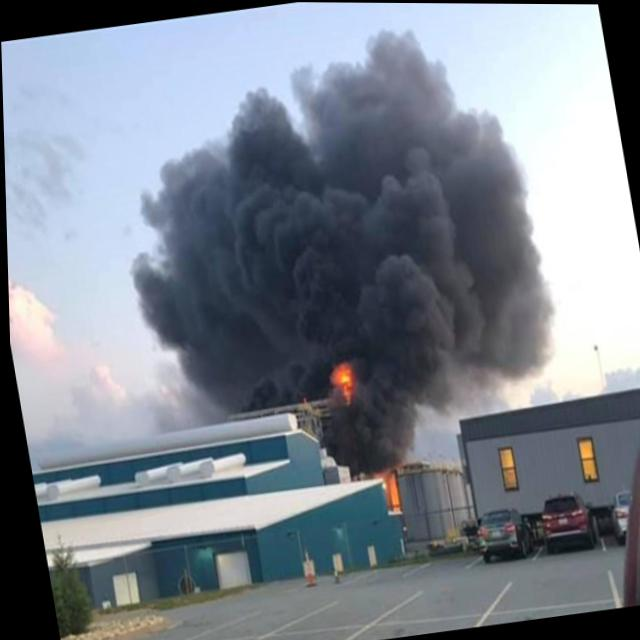fire: (325, 354, 359, 410)
